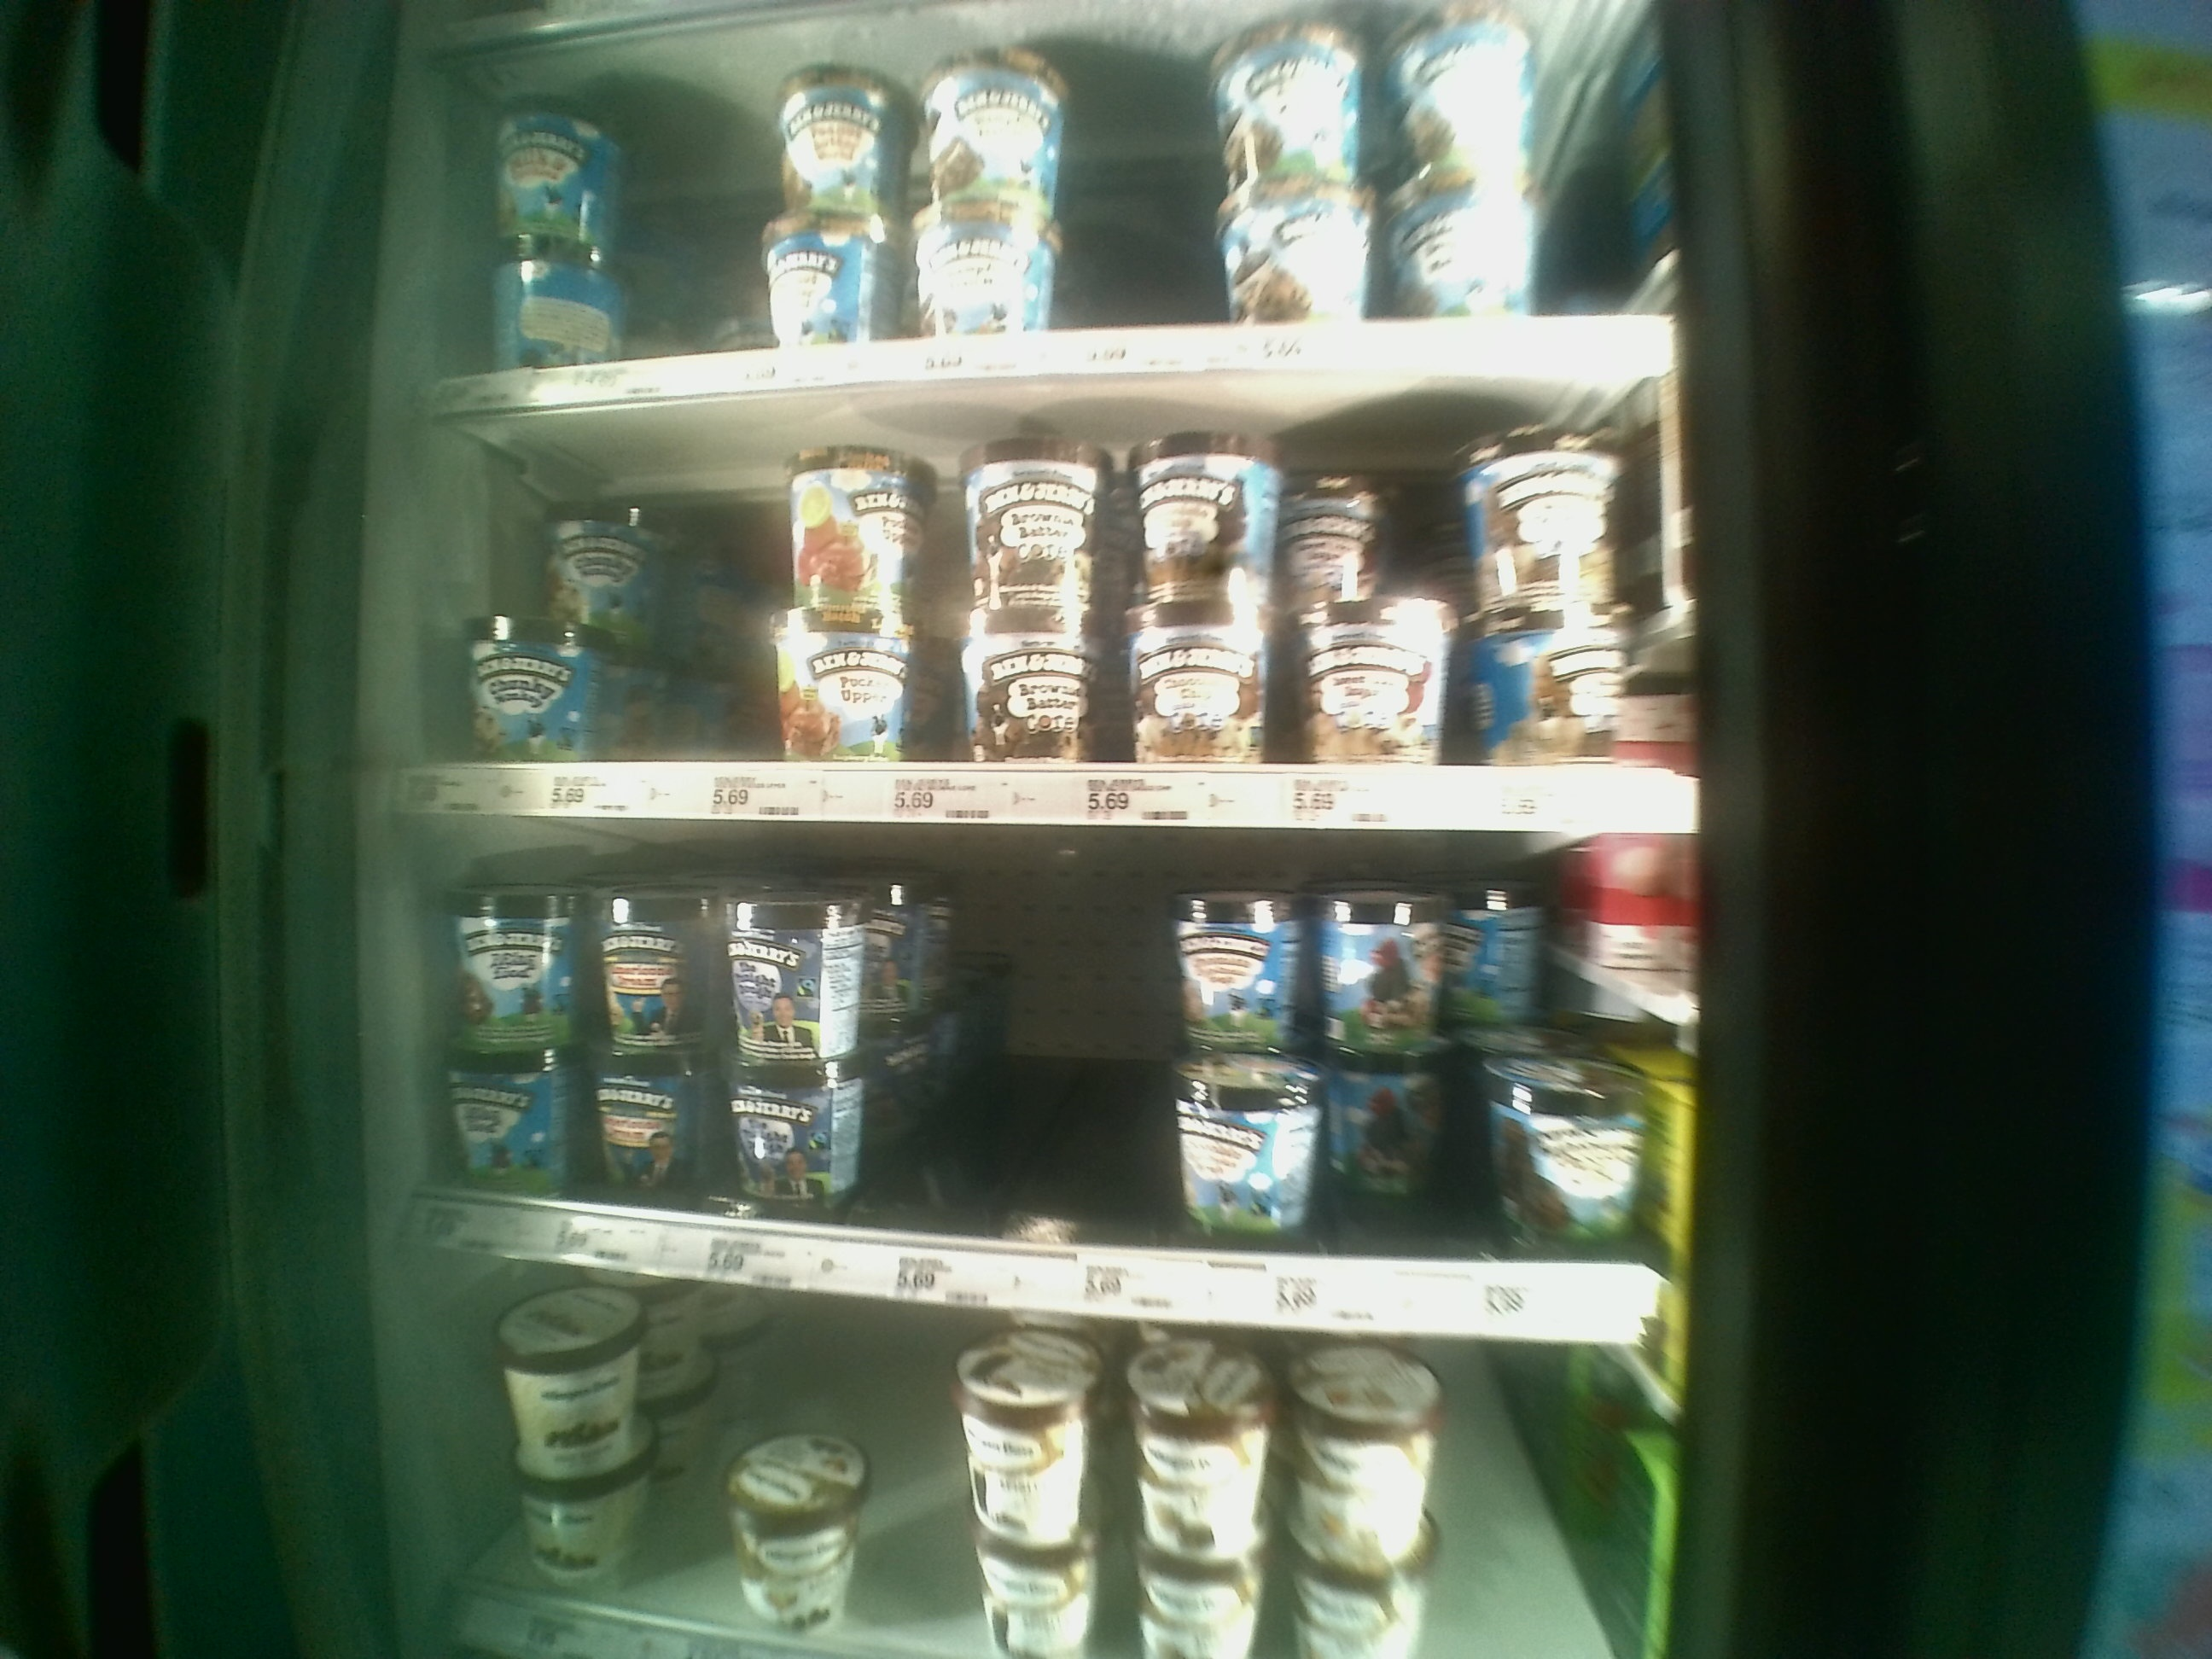ice-cream-shelf: (401, 819, 1672, 1342), (421, 410, 1686, 831)
